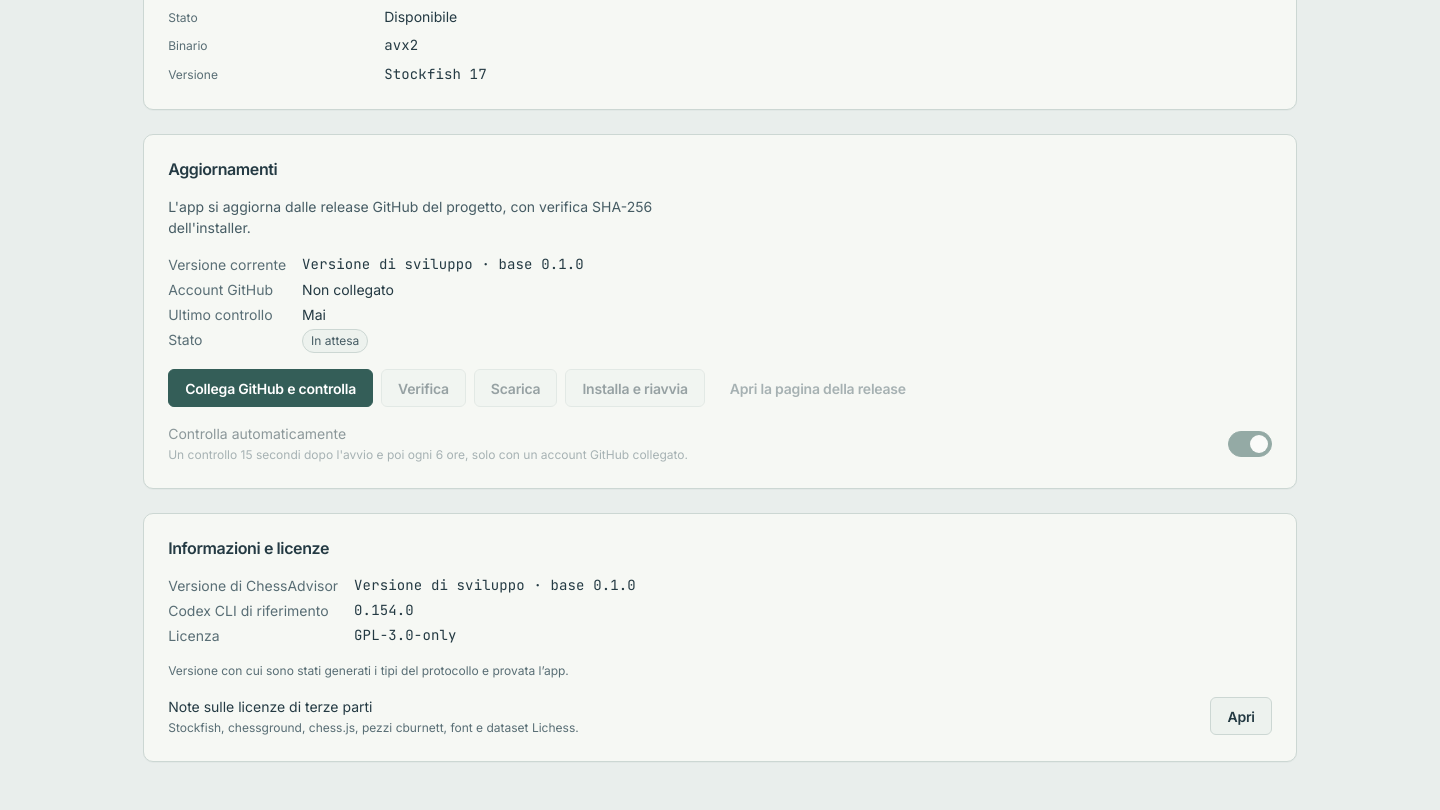
Test: SettingsScreen › shows the app version, the tested CLI version and the notices in Informazioni
(page scrolled)
Expected: the text "Versione di sviluppo · base 0.1.0" is shown 2 times, left=302, top=255, right=584, bottom=273; left=354, top=576, right=636, bottom=594
Expected: the text "0.154.0" is shown, left=354, top=601, right=414, bottom=619
Click the button "Apri": (1241, 716) left=1210, top=697, right=1272, bottom=735
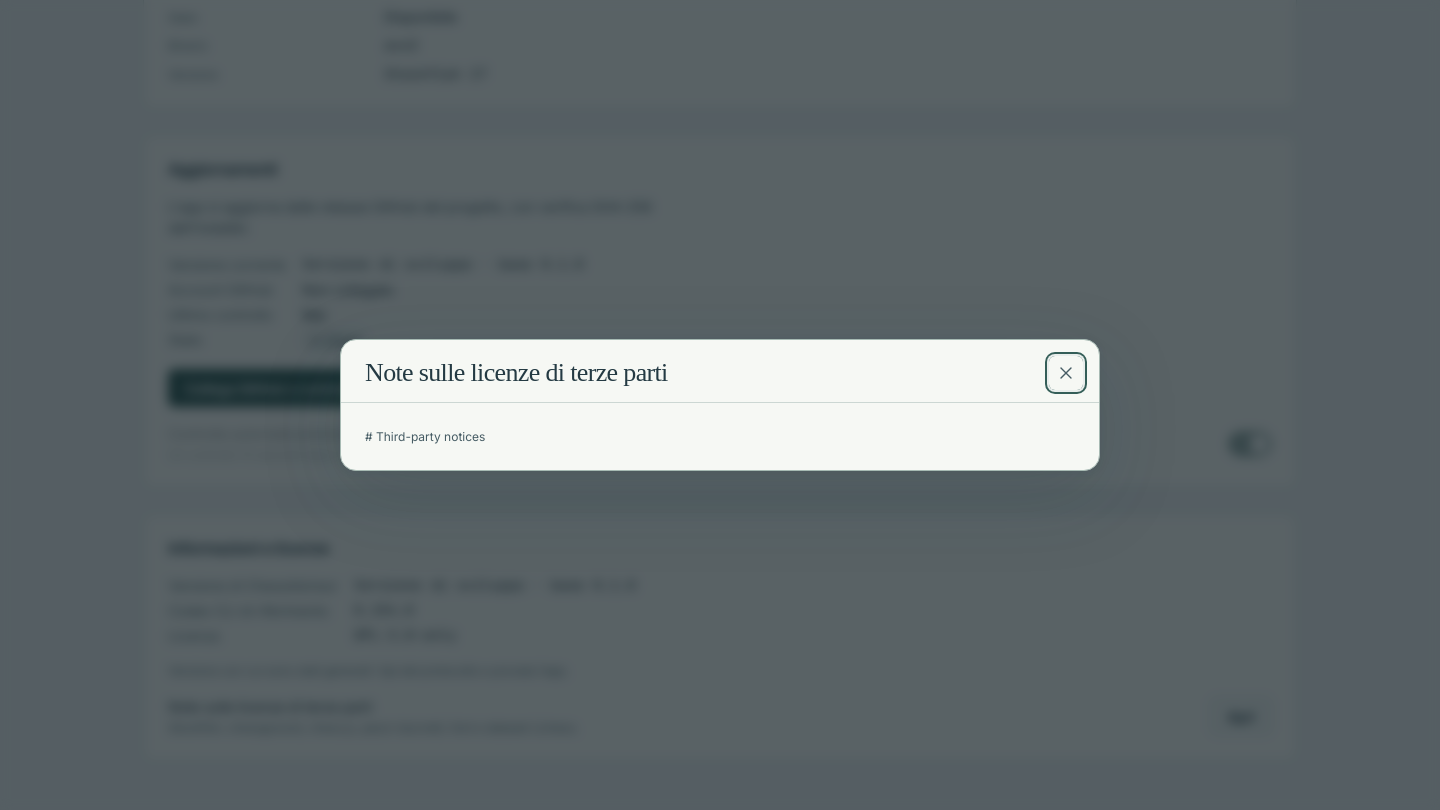
Now the text "# Third-party notices" is shown, box left=365, top=429, right=485, bottom=444
